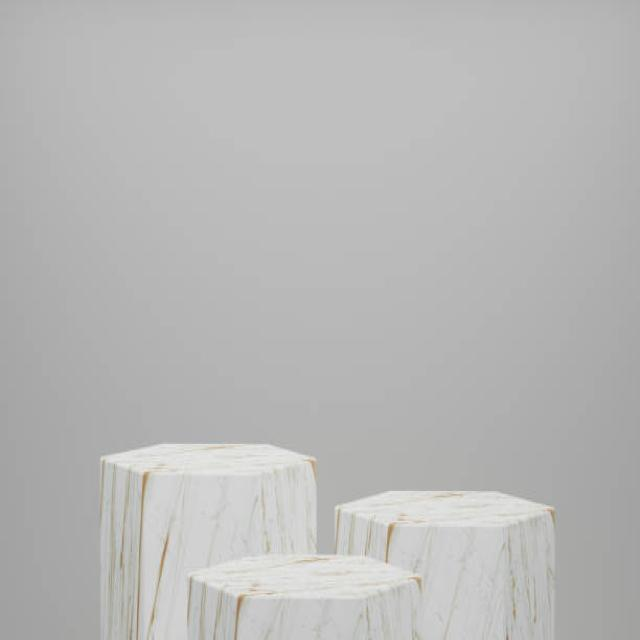Metamorphic: (91, 433, 322, 640), (328, 486, 560, 638), (185, 544, 422, 636)
